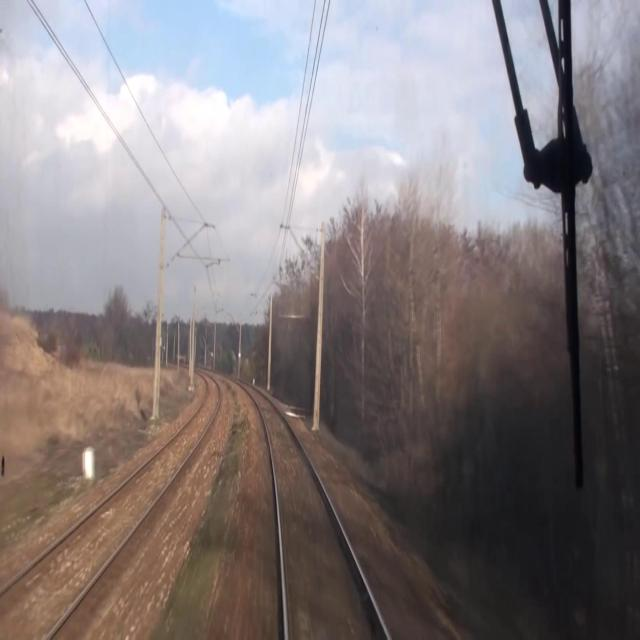rail-track: (0, 377, 218, 639), (250, 388, 386, 639)
